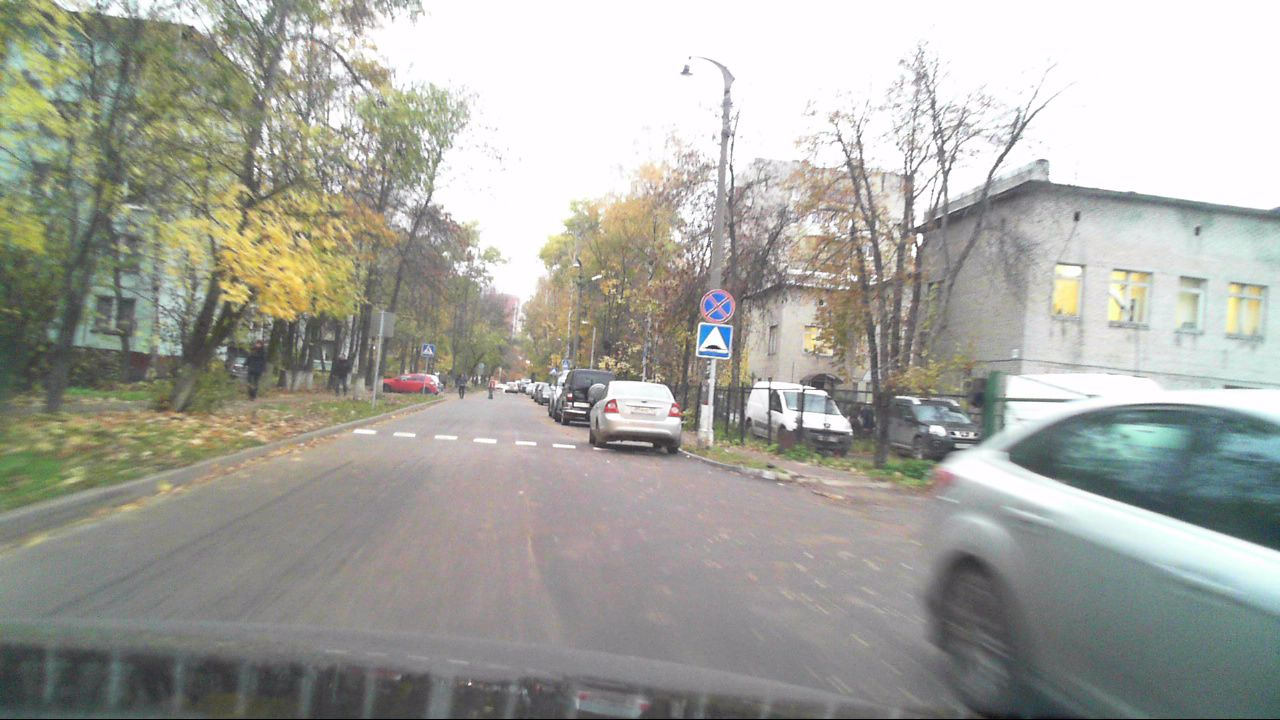No Parking: (701, 289, 735, 323)
